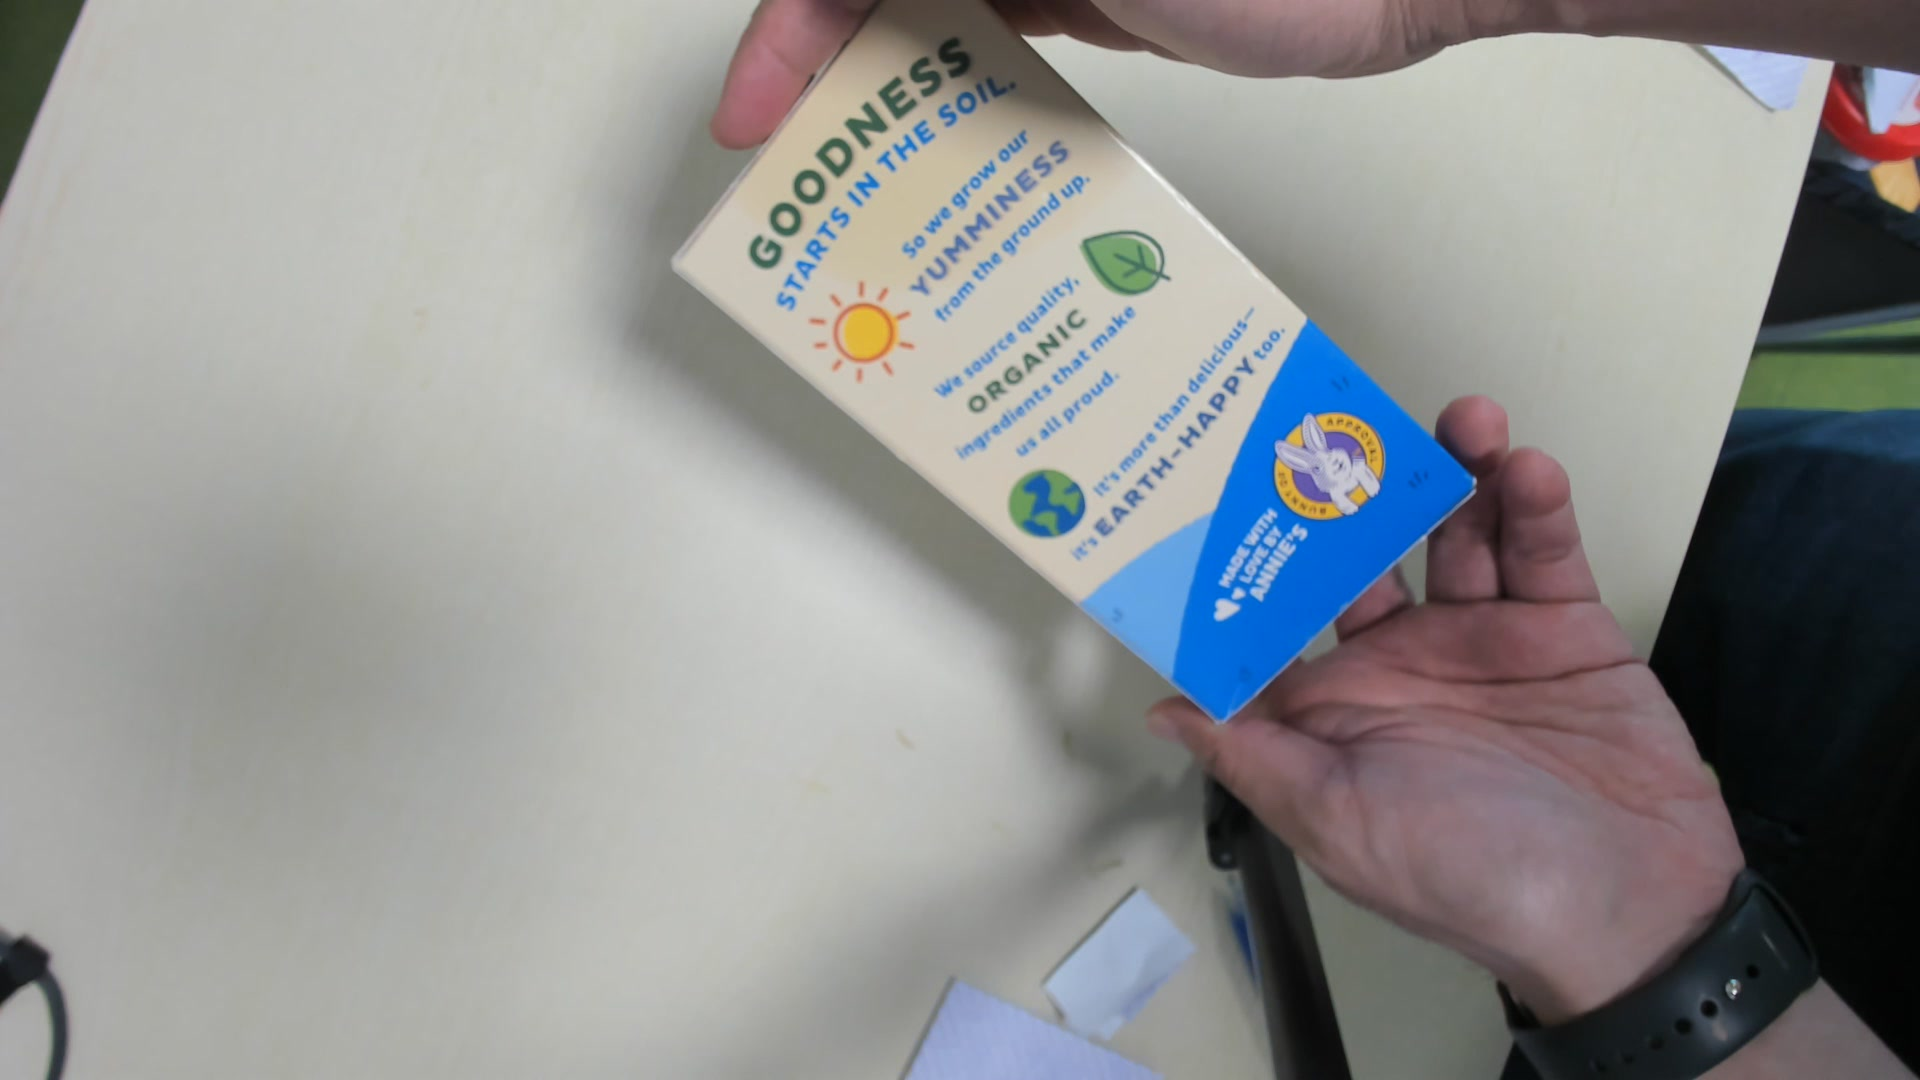InstantMeals_100_199g_NonHalal_NonHealthy: (688, 11, 1468, 740)
